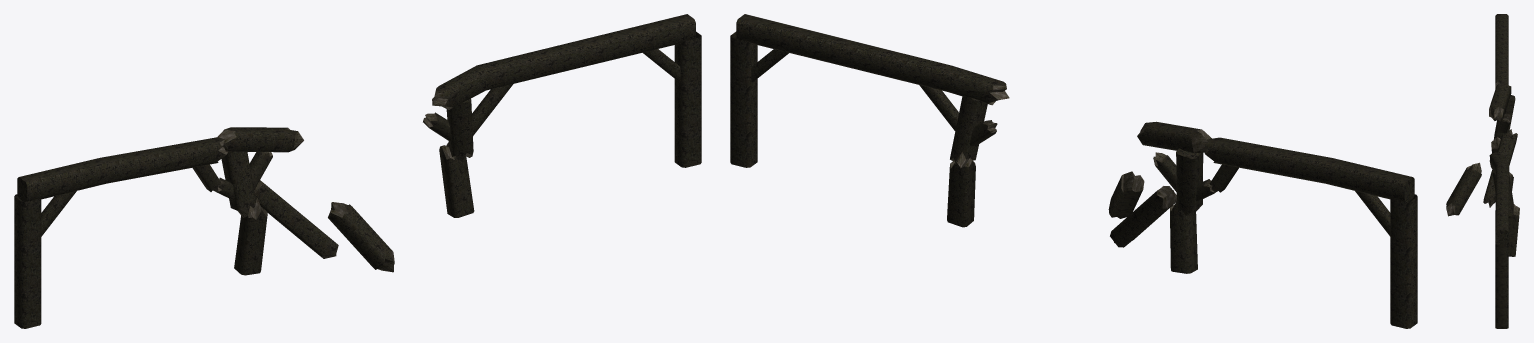
The model's file is collapse_beams_01.DAE.
The picture shows the model from 3 angles, left to right: view 1: azimuth 30°, elevation 25°; view 2: azimuth 150°, elevation 25°; view 3: azimuth 270°, elevation 25°; orthographic projection. The views are drawn at different scales.
Visible parts, largest first — view 1: Box010; view 2: Box010; view 3: Box010.
Boxes of the visible parts, box(x1,y1,x2,y2) form: Box010: box(14, 14, 701, 328); Box010: box(730, 14, 1417, 328); Box010: box(1446, 14, 1519, 328).
Size of the model in its own units: 19.44 by 4.01 by 2.76.
